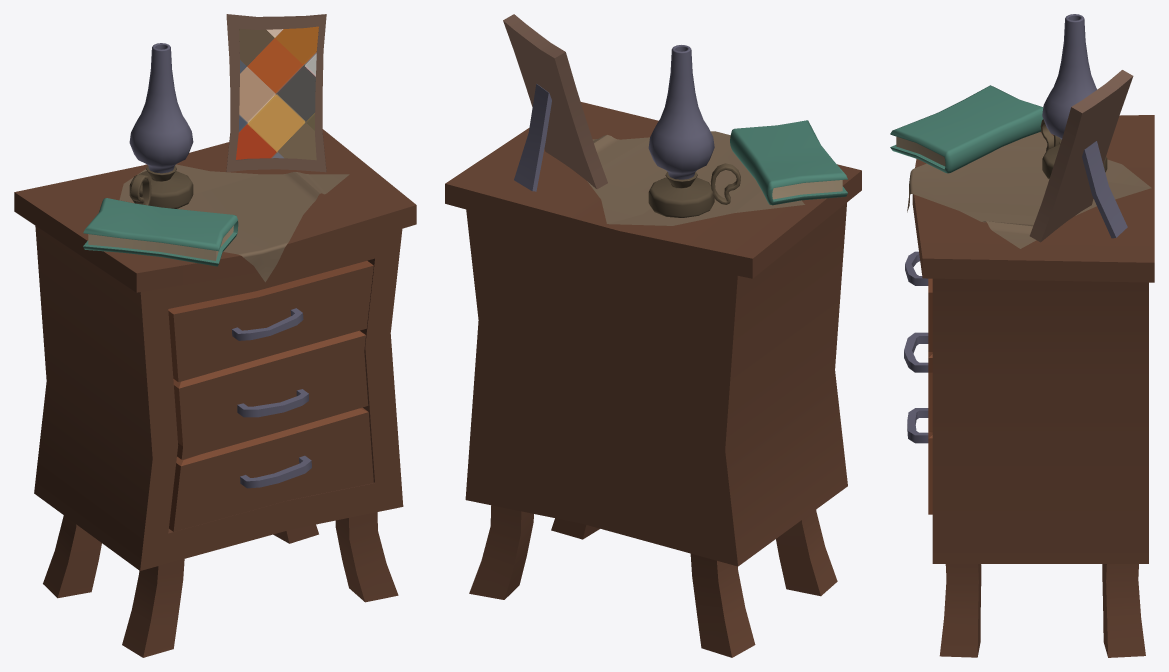
File: P_bedsidetable_01.fbx
3 views of the same model, side by side, from view 1: azimuth 30°, elevation 25°; view 2: azimuth 150°, elevation 25°; view 3: azimuth 270°, elevation 25° (orthographic). The views are drawn at different scales.
Visible parts, largest first — view 1: lod1; view 2: lod1; view 3: lod1.
Boxes of the visible parts, x1,y1,x2,y2 form: lod1: (14, 14, 416, 657); lod1: (445, 14, 861, 657); lod1: (890, 14, 1154, 657).
Size of what is drawn, in the model's own units: 45.39 by 76.21 by 33.01.
